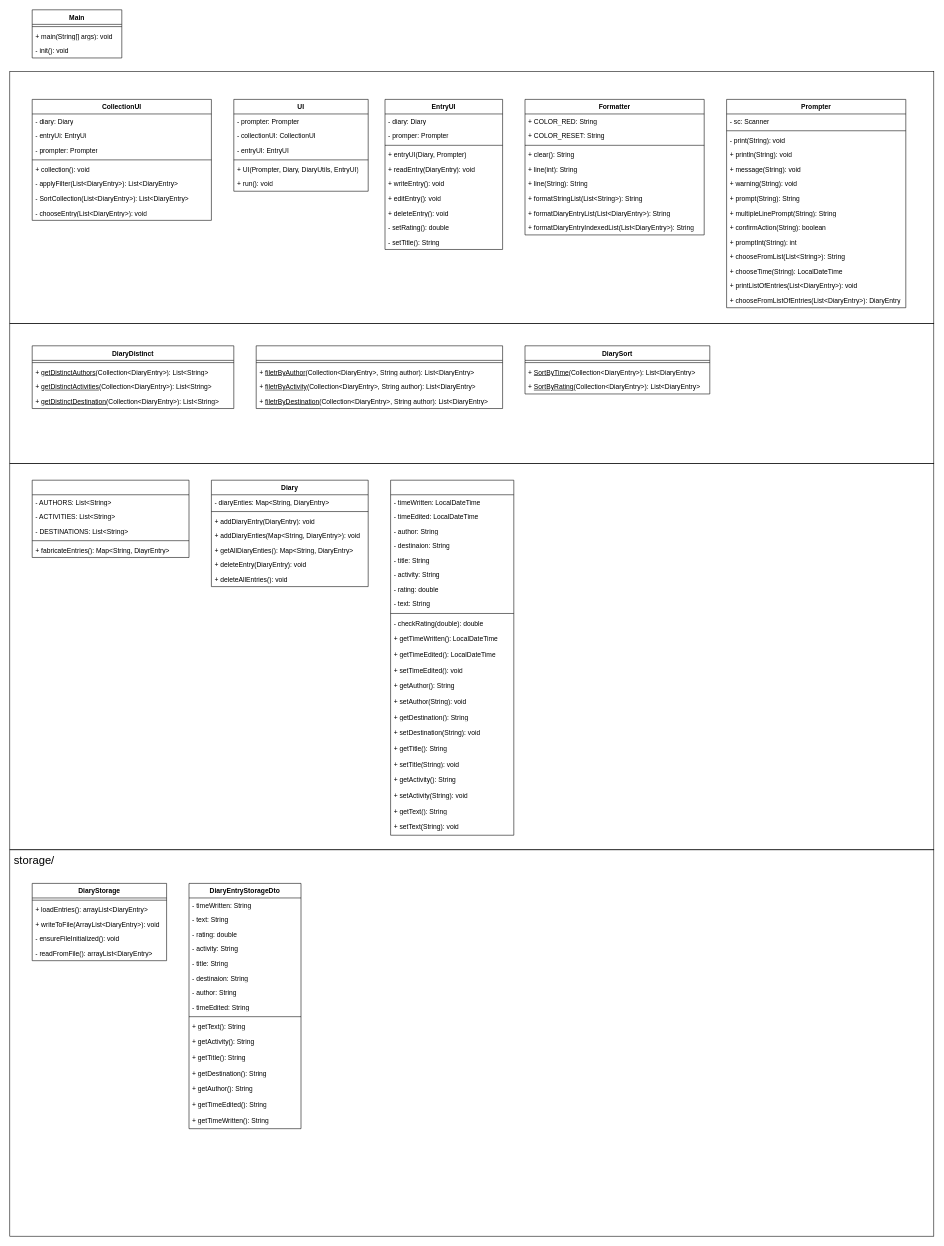
Image size: 944x1246. Some labels were removed from this diagram. Here are the shapes that lost their labels. From the top down, the box of each, then its label:
(9, 71, 934, 323): ui/
(256, 345, 503, 409): DiaryFIlter
(9, 323, 934, 463): utils/
(32, 480, 189, 557): EntryFactory
(390, 480, 514, 835): DiaryEntry
(9, 463, 934, 850): model/
